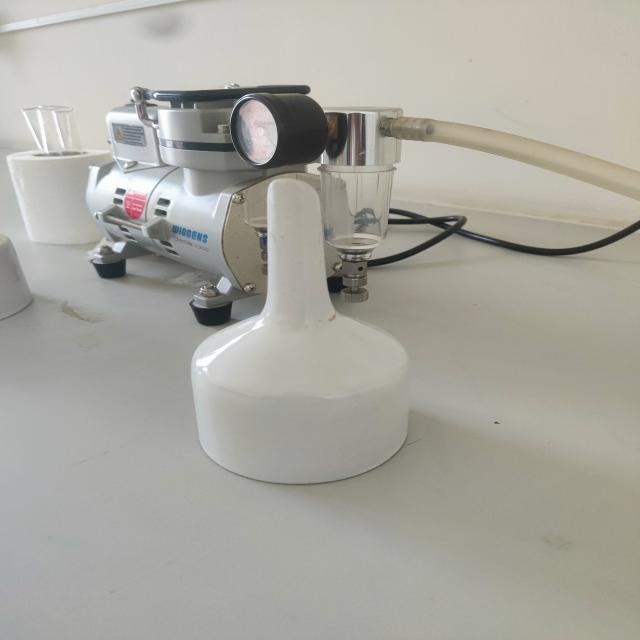Buchner_Funnel: (126, 151, 482, 519)
